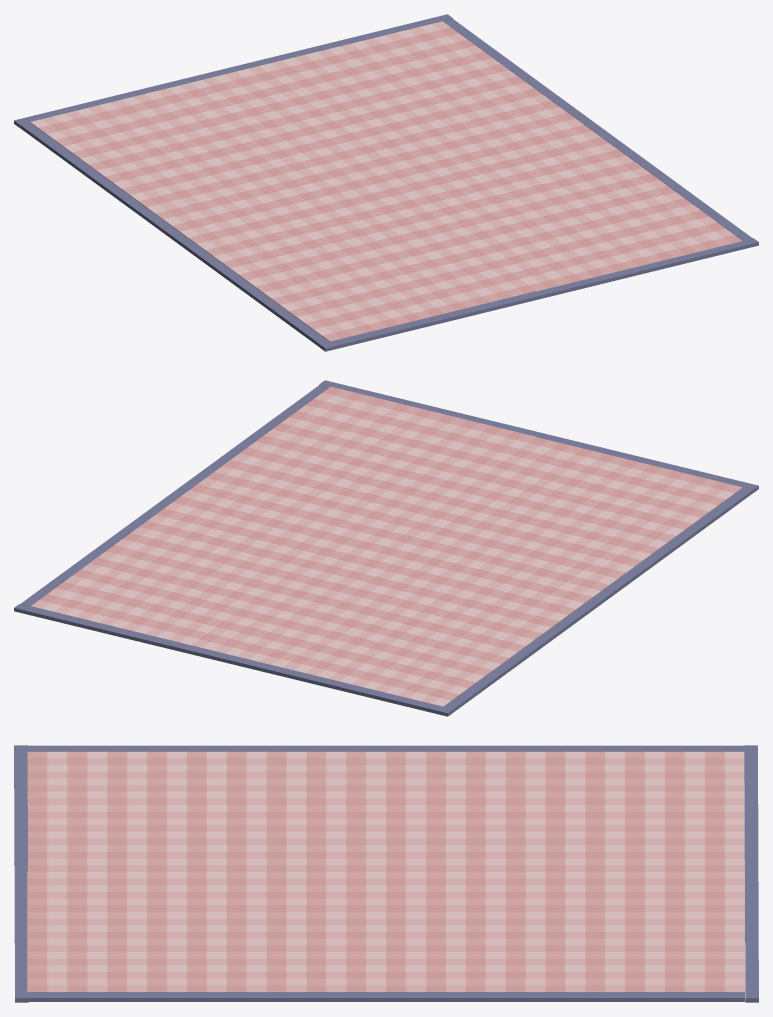
The model's file is rug.fbx.
3 views of the same model, one above another, from view 1: azimuth 30°, elevation 25°; view 2: azimuth 150°, elevation 25°; view 3: azimuth 270°, elevation 25° (orthographic). The views are drawn at different scales.
Visible parts, largest first — view 1: Plane, Plane.001, Plane.003, Plane.002, Plane.004; view 2: Plane, Plane.004, Plane.001, Plane.002, Plane.003; view 3: Plane, Plane.002, Plane.001, Plane.004, Plane.003.
Part boxes in pixels (x1,y1,x2,y2): Plane: (30,21,742,341); Plane.001: (20,122,329,346); Plane.003: (319,238,758,351); Plane.002: (443,18,752,240); Plane.004: (14,14,453,127); Plane: (31,386,742,706); Plane.004: (14,604,453,716); Plane.001: (444,487,753,711); Plane.002: (21,384,329,606); Plane.003: (319,380,758,492); Plane: (27,751,744,992); Plane.002: (27,992,744,1001); Plane.001: (27,745,744,751); Plane.004: (744,745,758,1002); Plane.003: (14,745,28,1002).
Size of the model in its own units: 774 by 5.91 by 963.
Materials: 5 (1 with a texture image).
